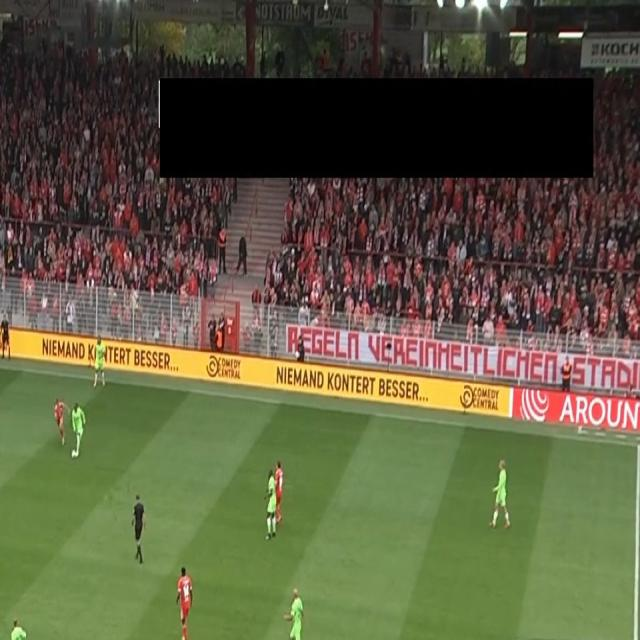ball: (70, 449, 76, 460)
